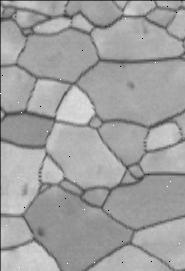good_void: (19, 184, 28, 198), (124, 79, 136, 89), (36, 227, 47, 236)
